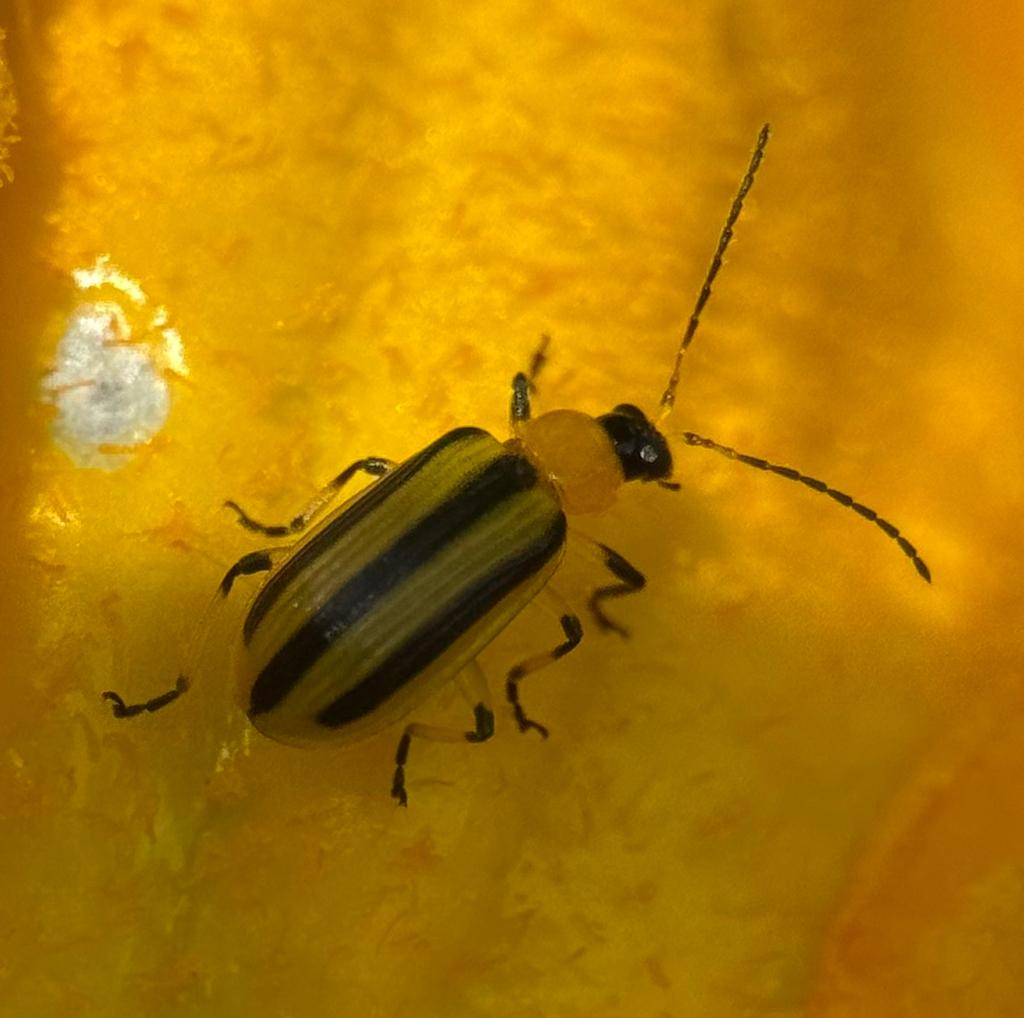potato_beetle: (46, 71, 1024, 907)
